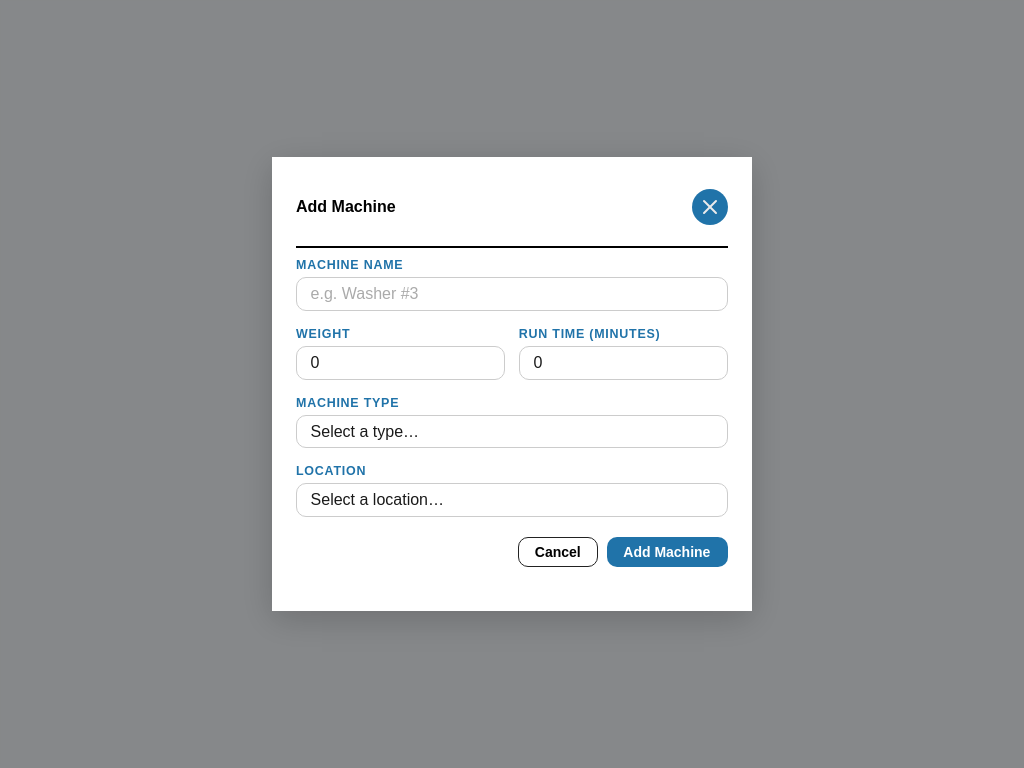
AddMachineModal › submission › shows error banner when addMachines returns an error string
Click the button "Add Machine".
click(668, 552)  # box [607,536,728,567]
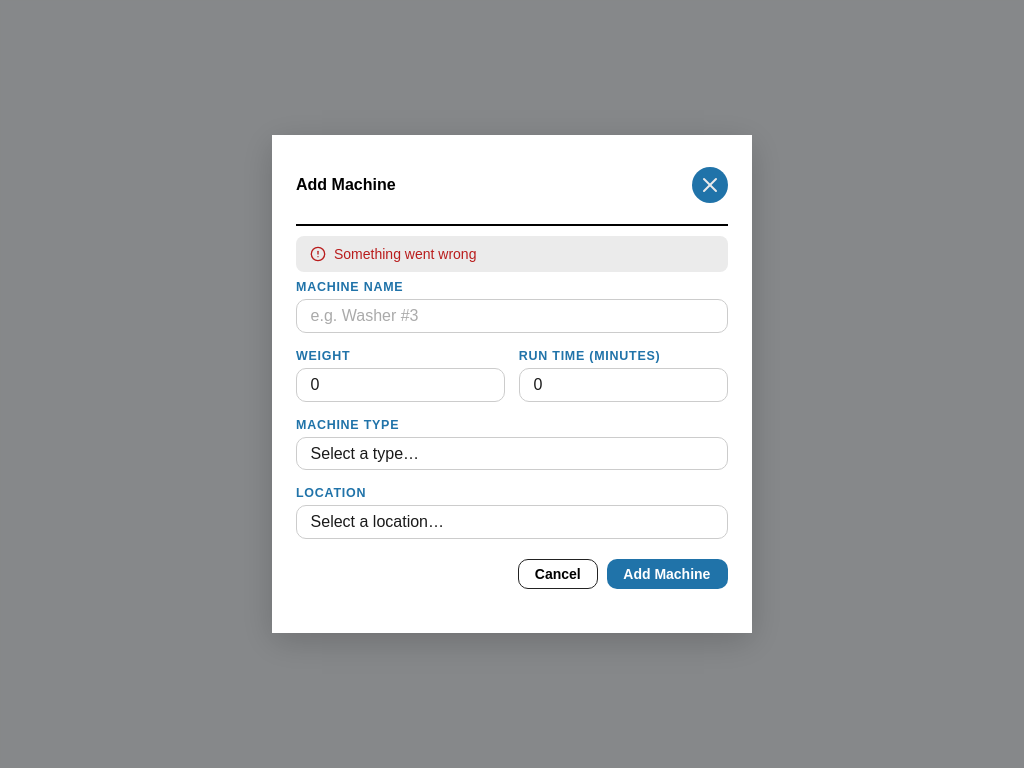
Check: the text "Something went wrong" is shown, box [334,246,476,262]
